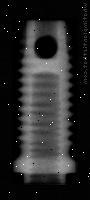Nobel Biocare: (12, 18, 77, 184)
